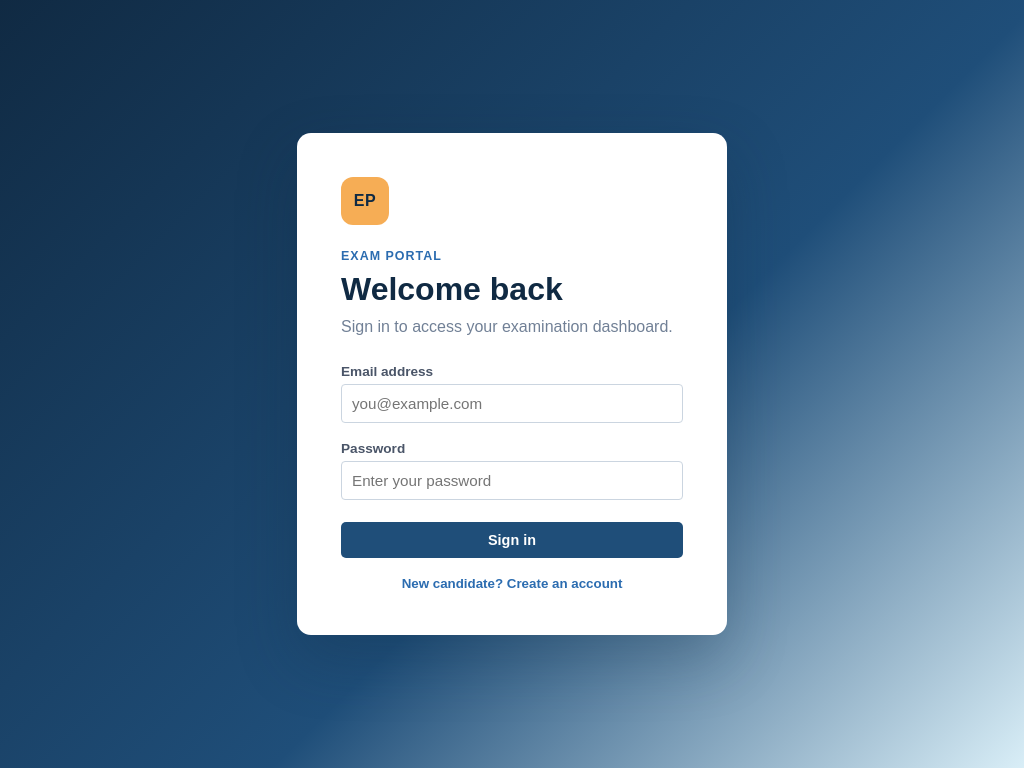
Test: registers a candidate and returns to the login screen
This screenshot has width=1024, height=768.
Step 1. Click the button "New candidate? Create an account" → [512, 584], box [402,576,622,591]
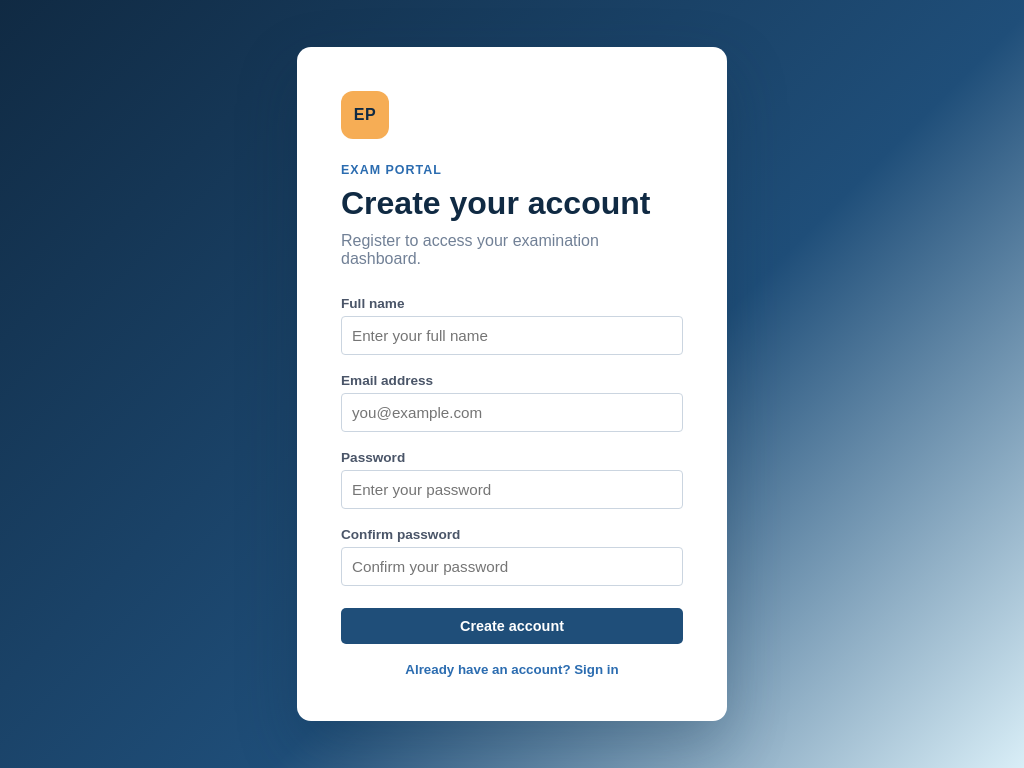
Step 2. Type "New Candidate" into the field labelled "Full name" → [512, 336], box [341,316,683,355]
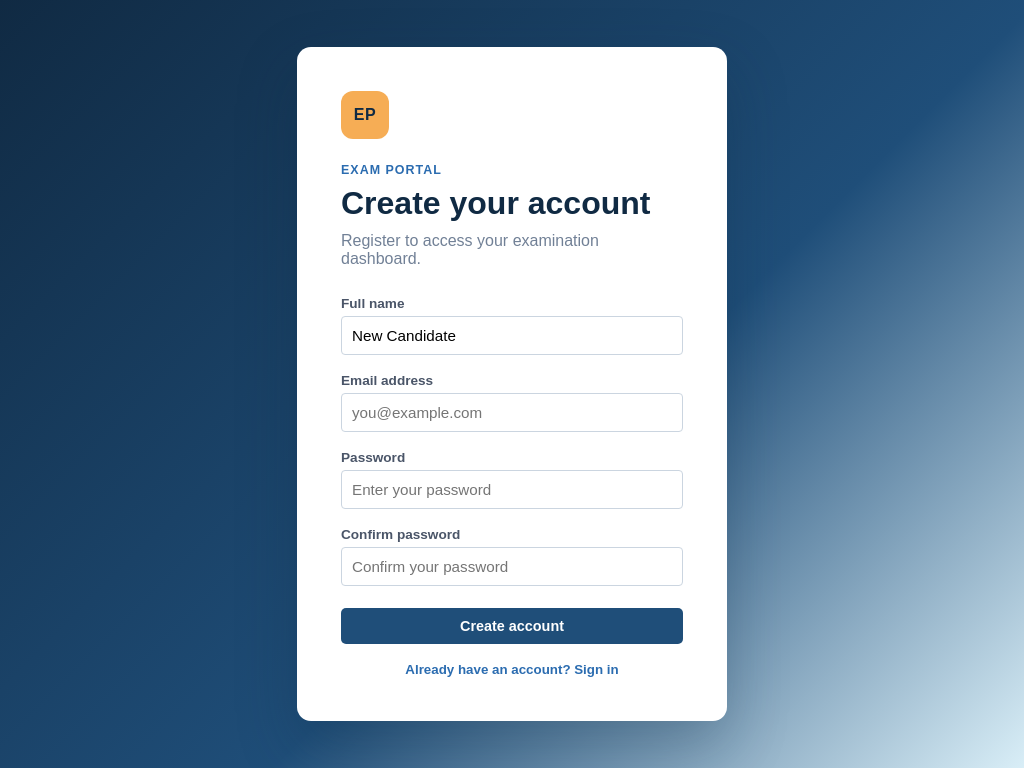
Step 3. Type "new@example.com" into the field labelled "Email address" → [512, 412], box [341,393,683,432]
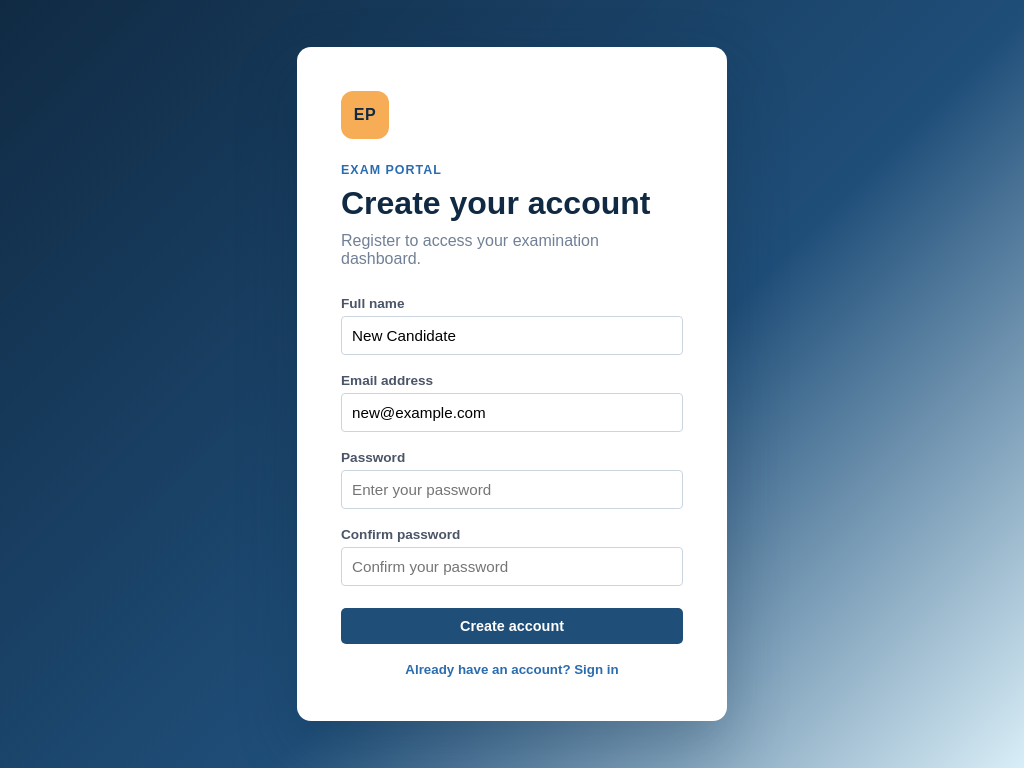
Step 4. Type "password123" into the password field labelled "Password" → [512, 490], box [341,470,683,509]
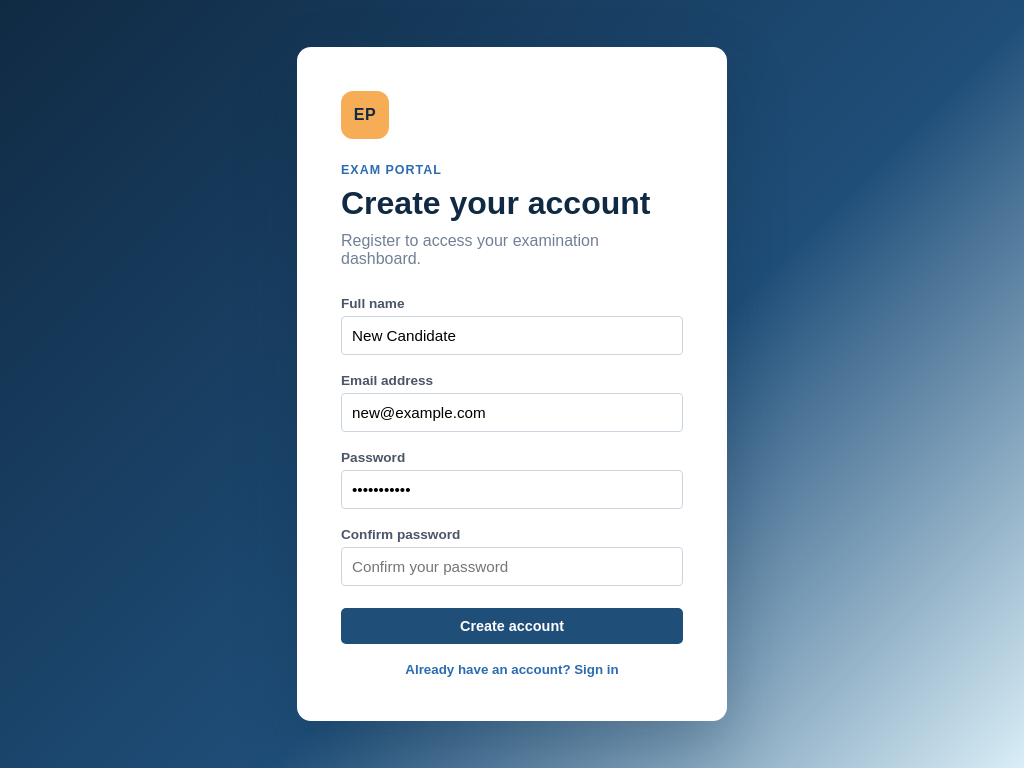
Step 5. Type "password123" into the password field labelled "Confirm password" → [512, 566], box [341,547,683,586]
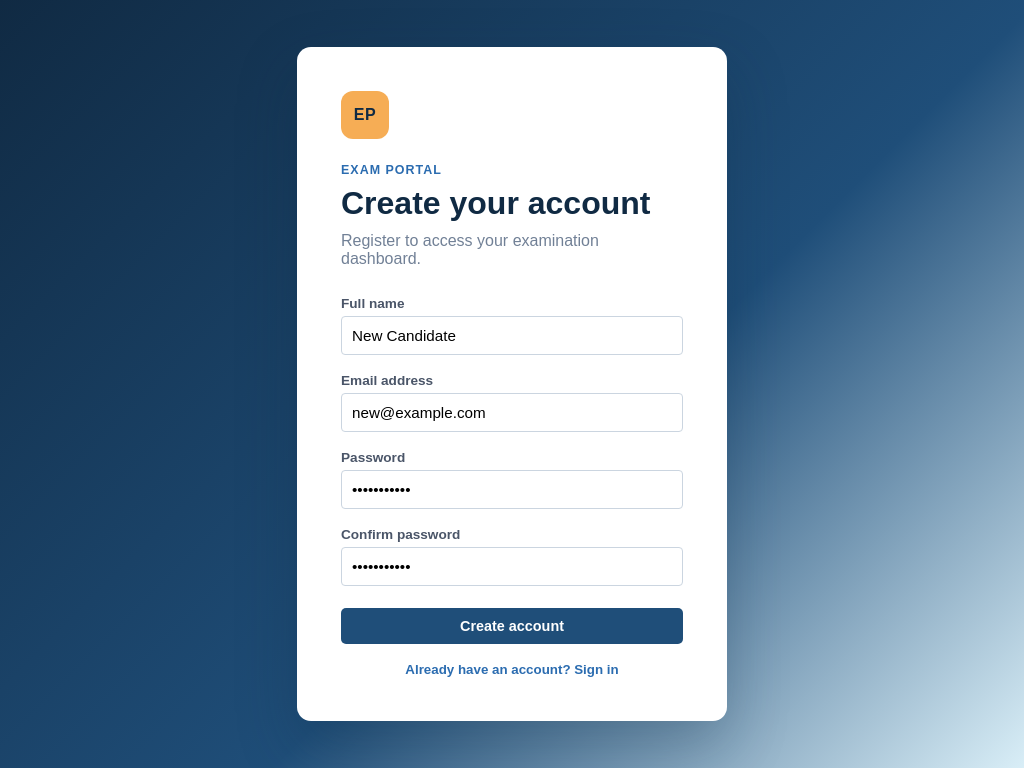
Step 6. Click the button "Create account" → [512, 626], box [341,608,683,644]
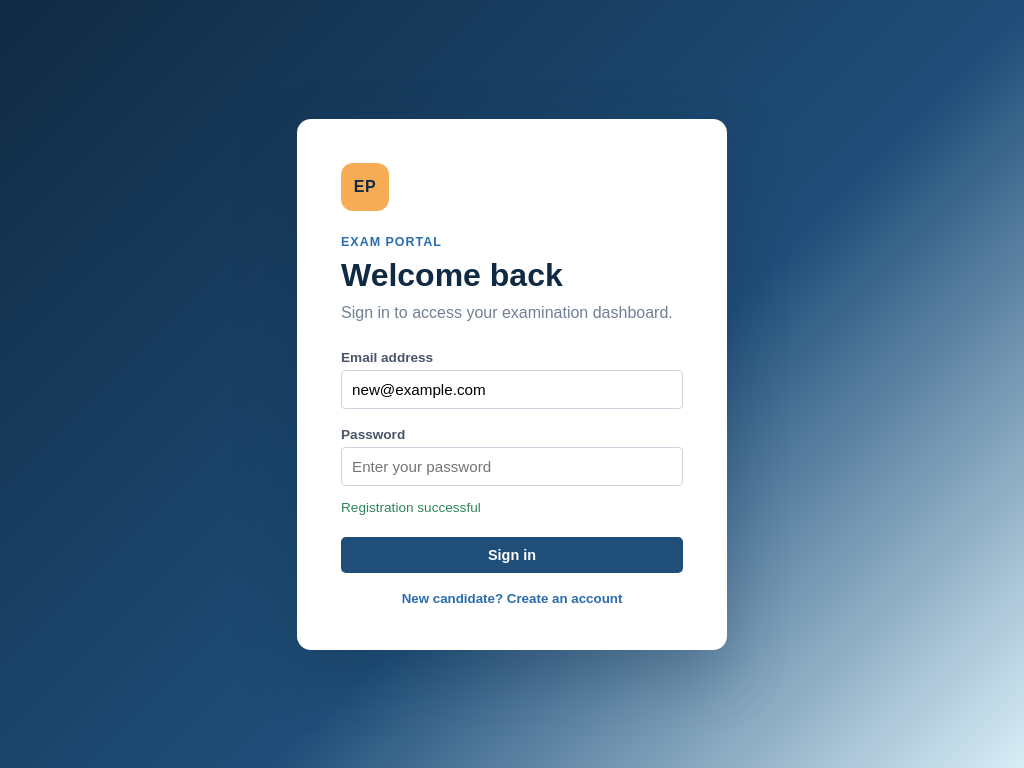
expect the heading "Welcome back" is shown: met, box [341,256,563,292]
expect the message reads "Registration successful": met, box [341,500,481,514]
